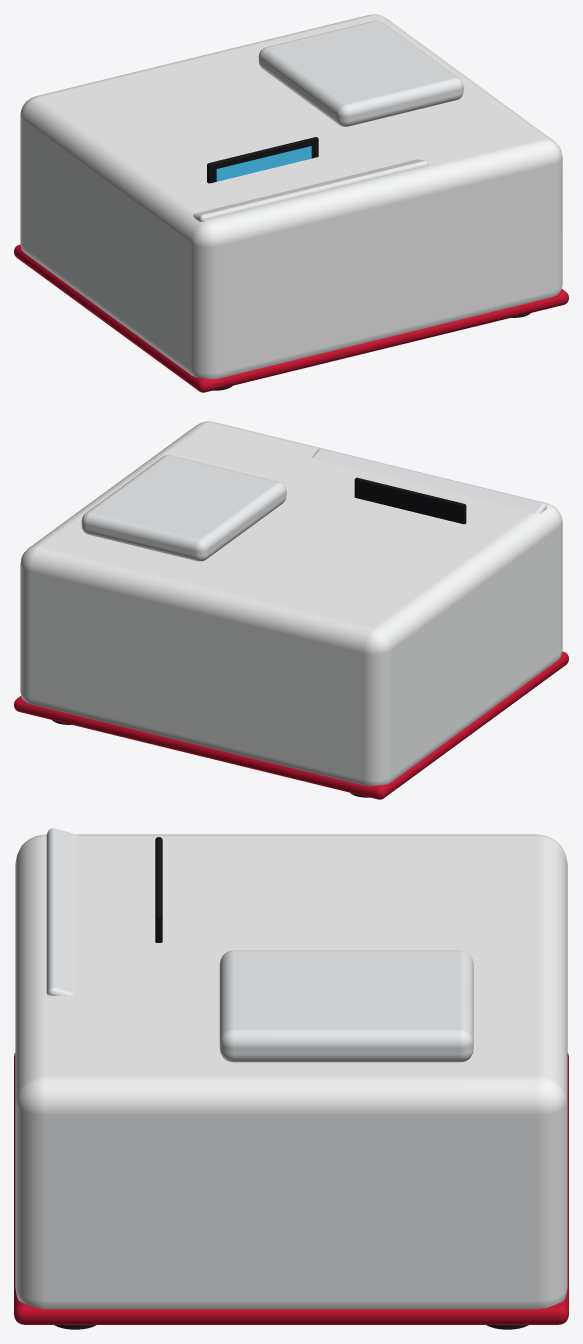
Rendered from uv-vis-u5100.glb.
3 views of the same model, one above another, from view 1: azimuth 30°, elevation 25°; view 2: azimuth 150°, elevation 25°; view 3: azimuth 270°, elevation 25° (orthographic). The views are drawn at different scales.
Size of the model in its own units: 0.5226 by 0.262 by 0.4623.
